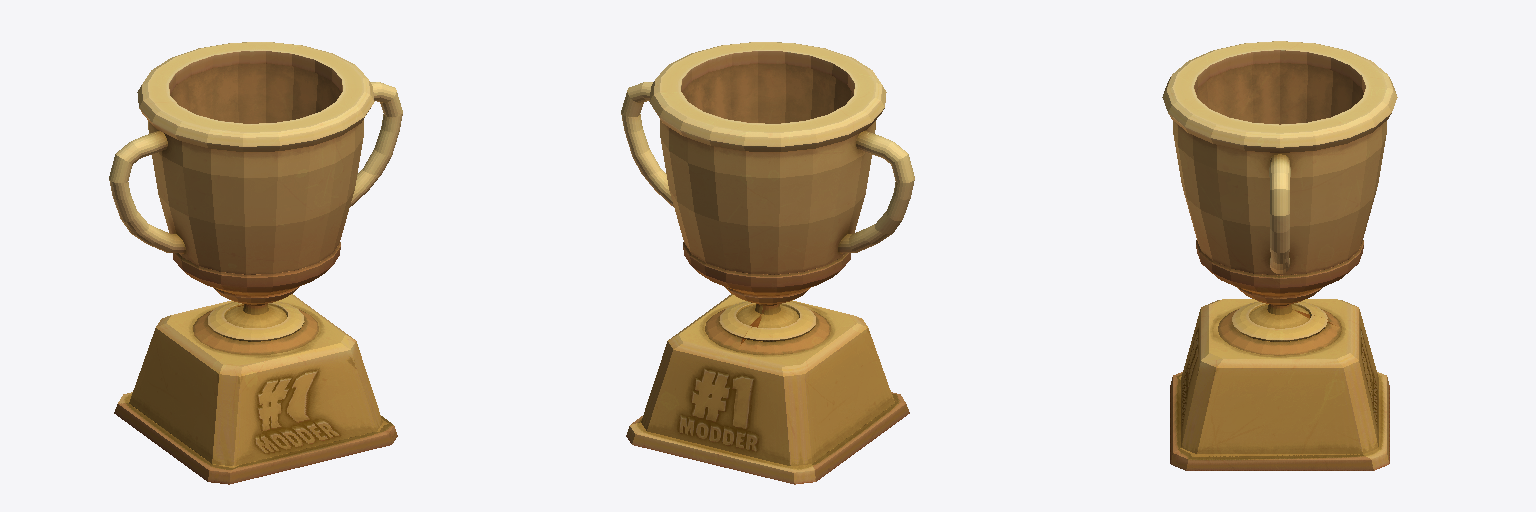
3 renders of one model, left to right at view 1: azimuth 30°, elevation 25°; view 2: azimuth 150°, elevation 25°; view 3: azimuth 270°, elevation 25°, orthographic.
Parts seen in each view (by area): view 1: ModderTrophy; view 2: ModderTrophy; view 3: ModderTrophy.
Part boxes in pixels (left/top/right/bottom): ModderTrophy: left=109, top=42, right=402, bottom=484; ModderTrophy: left=621, top=42, right=914, bottom=484; ModderTrophy: left=1162, top=41, right=1397, bottom=470.
Size of the model in its own units: 1.66 by 1.84 by 1.16.
Materials: 1 (1 with a texture image).